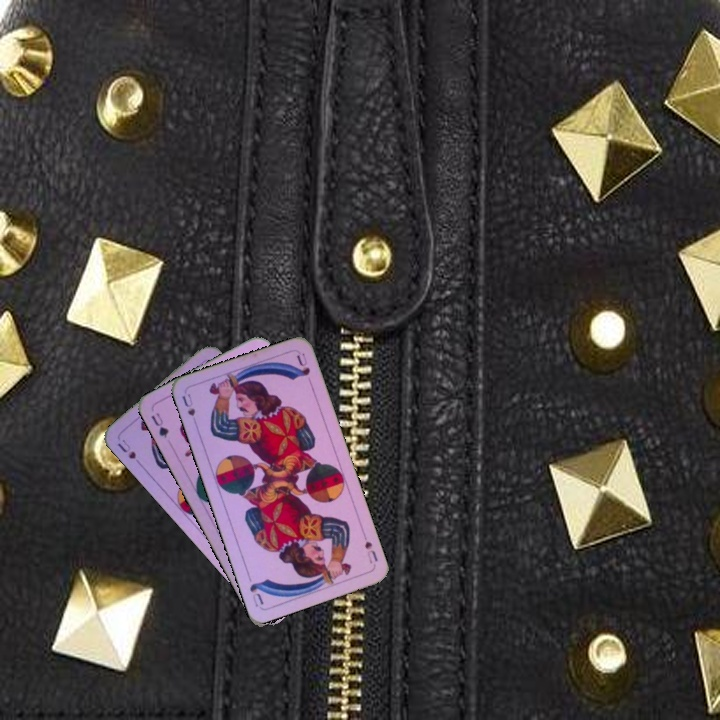GU: (147, 408, 172, 441)
SU: (113, 435, 146, 470), (358, 528, 380, 566), (178, 389, 198, 419)
